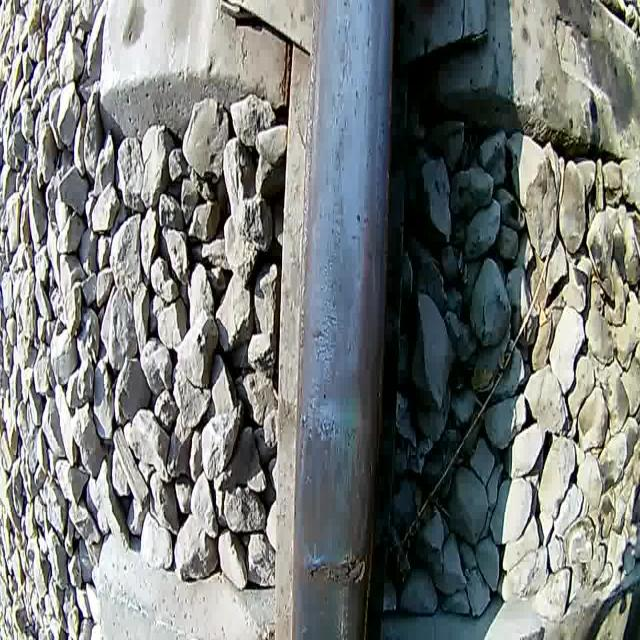Spallings: (296, 540, 371, 598)
Squats: (290, 409, 379, 561), (288, 584, 379, 640)
